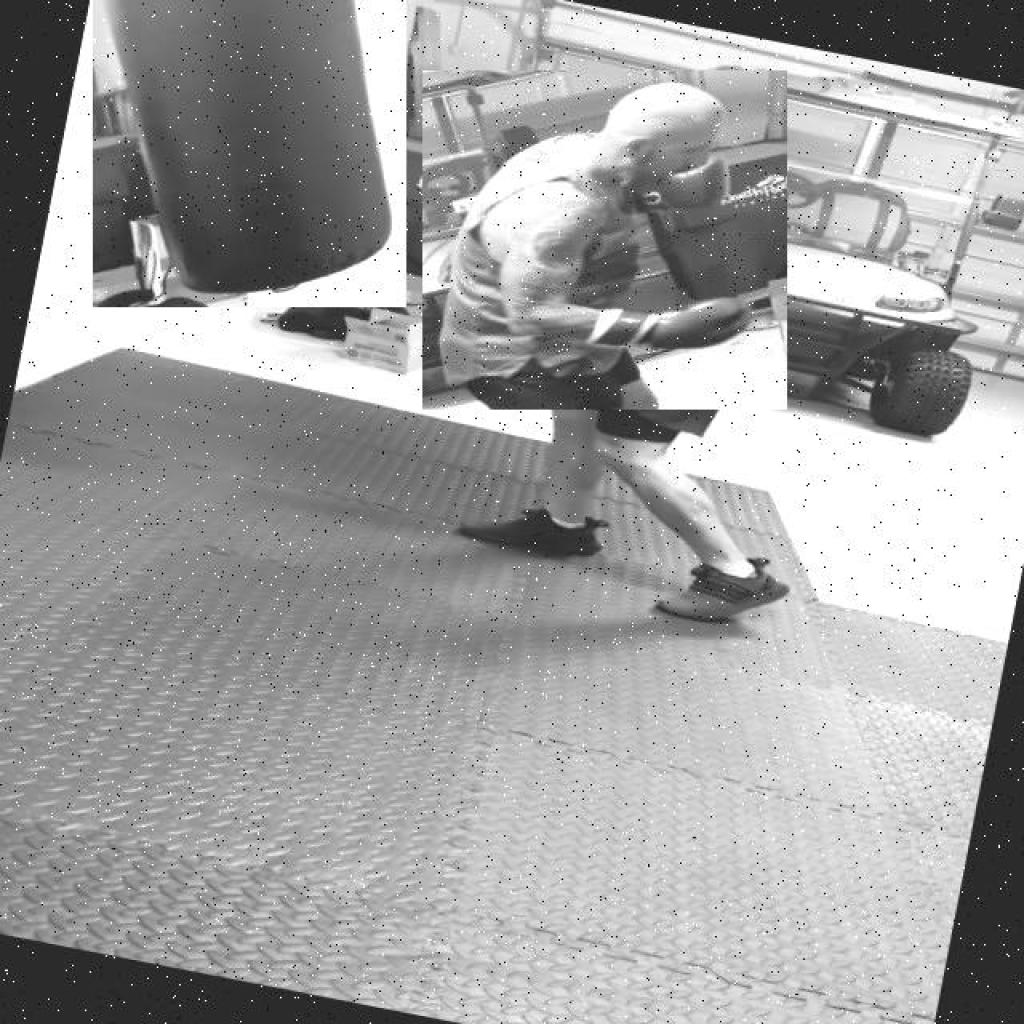bag: (93, 0, 407, 307)
uppercut: (422, 70, 788, 409)
